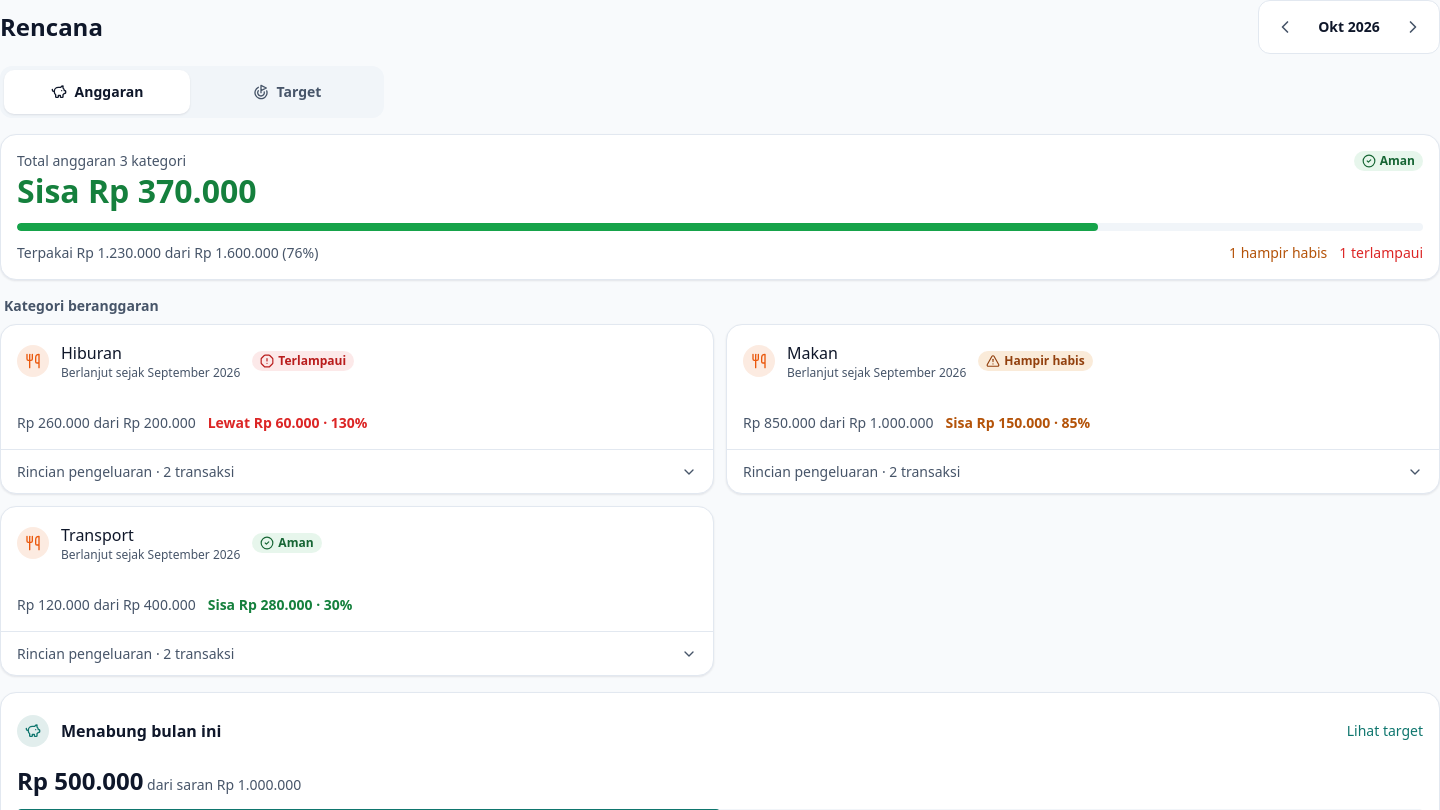
Scenario: BudgetsPage › setoran target bulan ini tampil di kartu terpisah, bukan di anggaran pengeluaran
Expected: the text "Rp 500.000" is shown, left=17, top=764, right=144, bottom=797
Click the button named "Bulan sebelumnya" at [1285, 27], box left=1263, top=5, right=1307, bottom=49
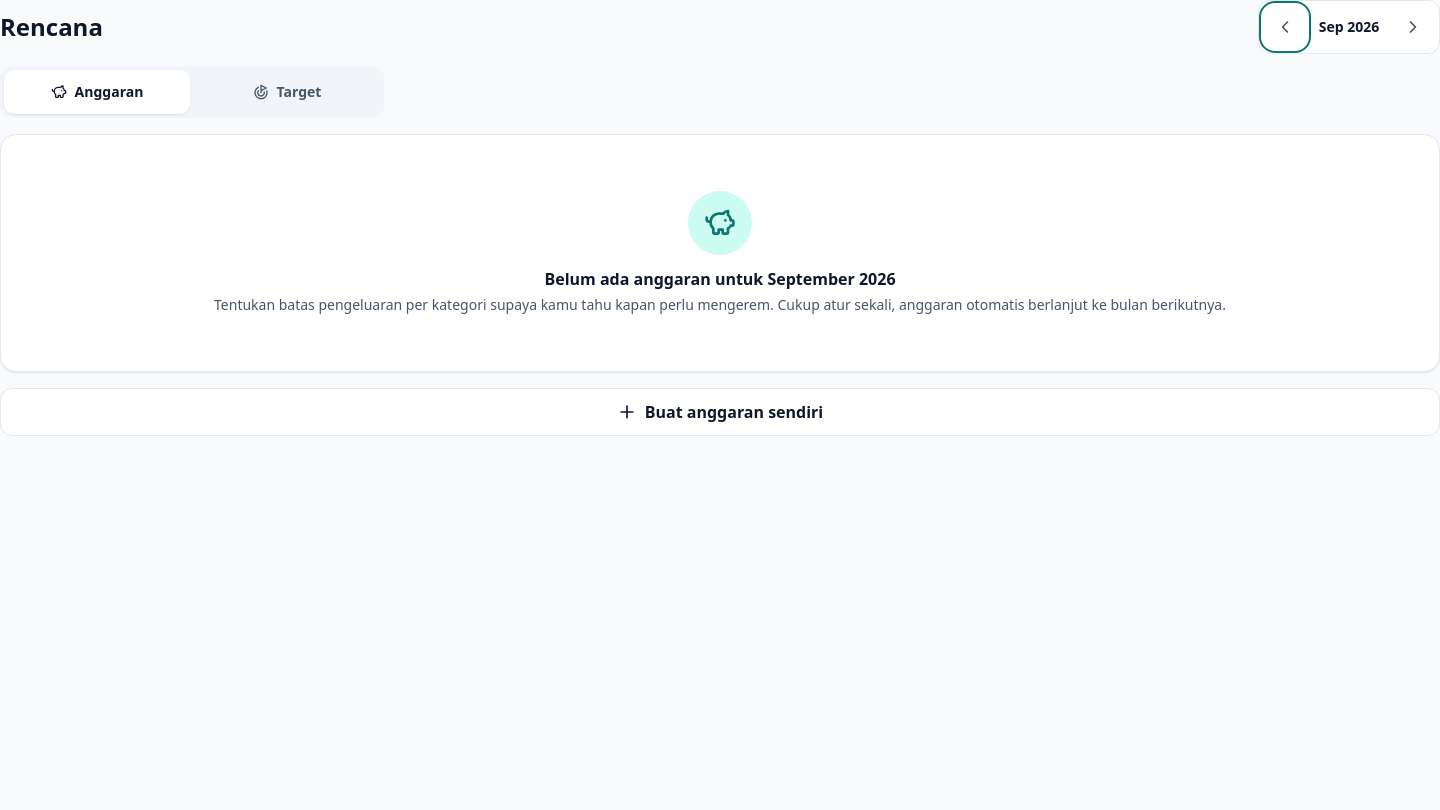
Result: the heading "Menabung bulan ini" is gone
